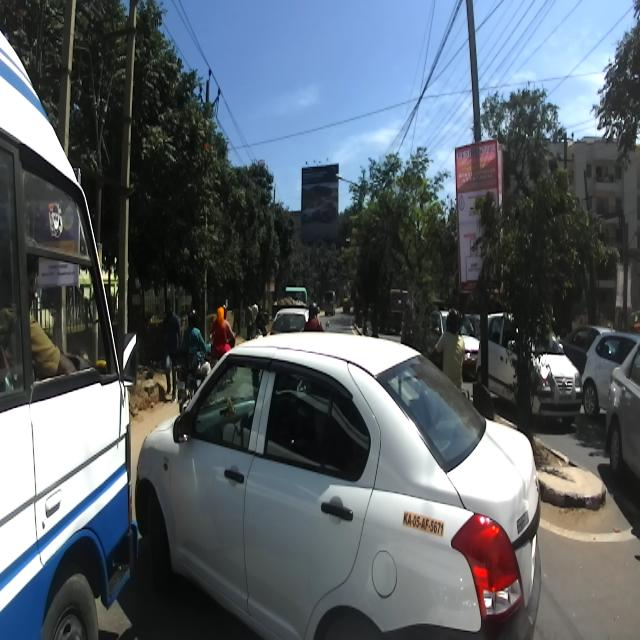car ahead at: (120, 317, 545, 640)
